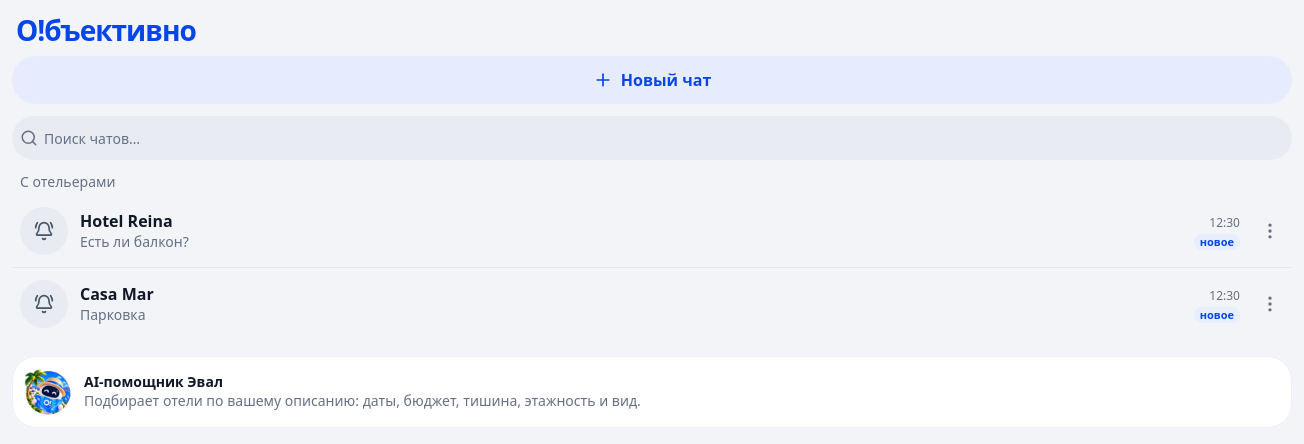
ChatList: chats with hoteliers › searches them by the hotel and the last message
Type "парков" into the search field labelled "Поиск чатов" at coordinates (665, 138), box [38,122,1292,154]
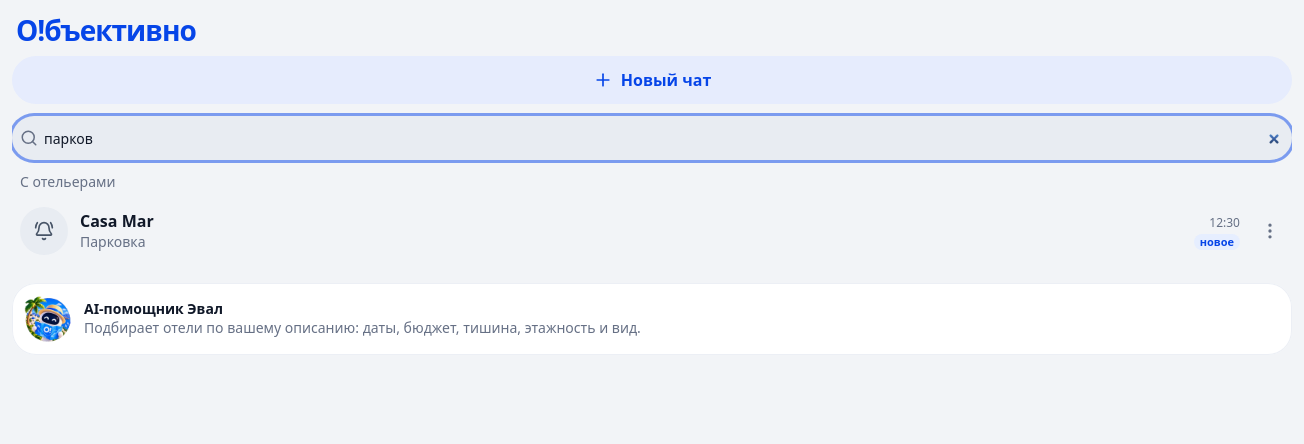
expect the text "Casa Mar" is shown: met, box [80,210,154,232]
expect the button "Hotel Reina" is gone: met
